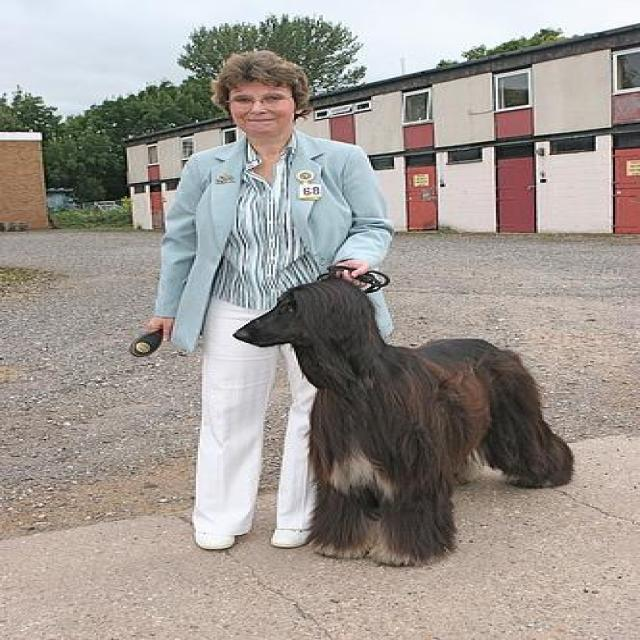afghan_hound: (223, 271, 575, 567)
